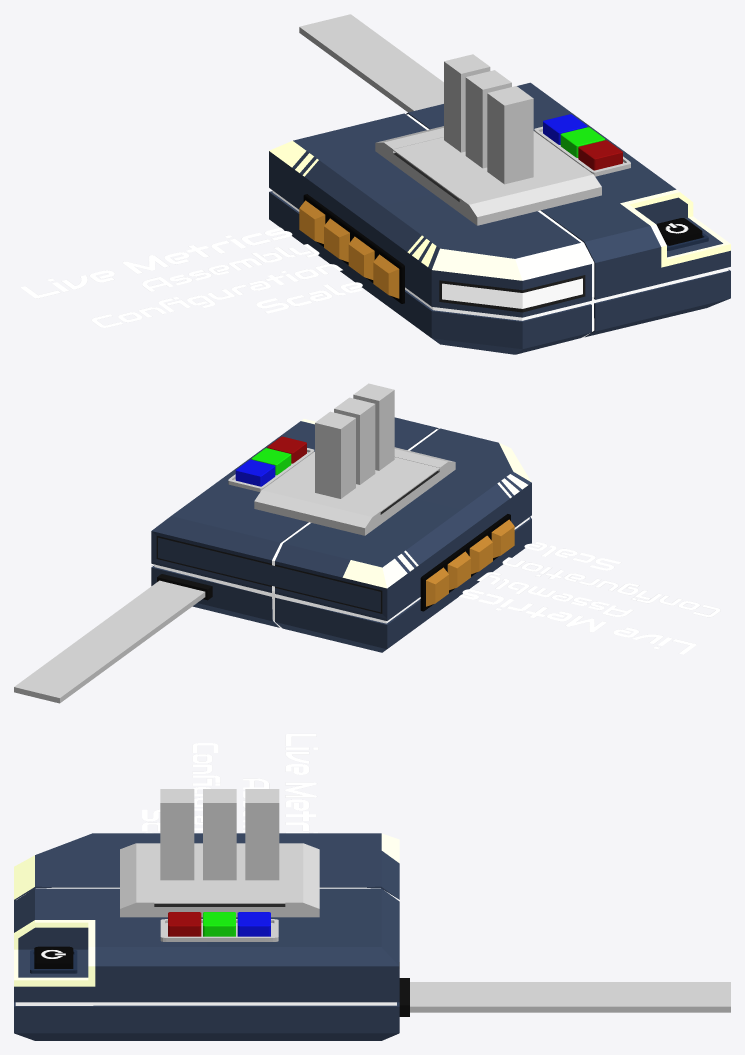
The model's file is eBridgeDemo_theThing.glb.
3 renders of one model, top to bottom at view 1: azimuth 30°, elevation 25°; view 2: azimuth 150°, elevation 25°; view 3: azimuth 270°, elevation 25°, orthographic. The views are drawn at different scales.
Visible parts, largest first — view 1: mainBody, dataPort, demoScreenBase_A, demoScreenGlass, liveMetricBar_1, liveMetricBar_2, liveMetricBar_3, bottomHiddenDrawer_A, demoText_live_metrics, demoText_configuration, demoText_assembly, demoButtonsBorder (+10 smaller); view 2: mainBody, dataPort, demoScreenBase_A, topHiddenPanel_A, demoScreenGlass, liveMetricBar_3, liveMetricBar_1, liveMetricBar_2, demoText_live_metrics, demoText_configuration, demoText_assembly, demoButtonsBorder (+8 smaller); view 3: mainBody, dataPort, demoScreenBase_A, demoScreenGlass, liveMetricBar_3, liveMetricBar_1, liveMetricBar_2, demoText_live_metrics, uiButtonsBorder, demoText_configuration, powerButton, uiButton_1 (+2 smaller).
Boxes of the visible parts, x1,y1,x2,y2 form: mainBody: (269, 82, 730, 354); dataPort: (299, 14, 443, 112); demoScreenBase_A: (375, 126, 601, 225); demoScreenGlass: (393, 131, 583, 198); liveMetricBar_1: (487, 86, 533, 184); liveMetricBar_2: (465, 70, 511, 168); liveMetricBar_3: (444, 54, 490, 152); bottomHiddenDrawer_A: (442, 278, 582, 308); demoText_live_metrics: (20, 227, 292, 298); demoText_configuration: (91, 264, 342, 327); demoText_assembly: (142, 244, 319, 291); demoButtonsBorder: (303, 194, 404, 303); mainBody: (151, 417, 531, 652); dataPort: (14, 574, 212, 703); demoScreenBase_A: (254, 447, 455, 535); topHiddenPanel_A: (158, 537, 380, 612); demoScreenGlass: (270, 452, 439, 511); liveMetricBar_3: (315, 411, 355, 498); liveMetricBar_1: (353, 383, 394, 470); liveMetricBar_2: (334, 397, 375, 484); demoText_live_metrics: (459, 589, 696, 654); demoText_configuration: (502, 557, 720, 616); demoText_assembly: (477, 572, 633, 616); demoButtonsBorder: (420, 514, 510, 611); mainBody: (14, 833, 399, 1040); dataPort: (399, 978, 730, 1016); demoScreenBase_A: (120, 843, 319, 917); demoScreenGlass: (154, 843, 285, 903); liveMetricBar_3: (245, 789, 279, 880); liveMetricBar_1: (160, 789, 194, 880); liveMetricBar_2: (203, 789, 236, 880); demoText_live_metrics: (285, 734, 318, 833); uiButtonsBorder: (160, 919, 278, 941); demoText_configuration: (192, 743, 220, 830); powerButton: (34, 946, 73, 968); uiButton_1: (168, 912, 201, 936).
Bounding box in the file's own units: 6.52 × 2.11 × 7.37.
Materials: 32 (5 with a texture image).
